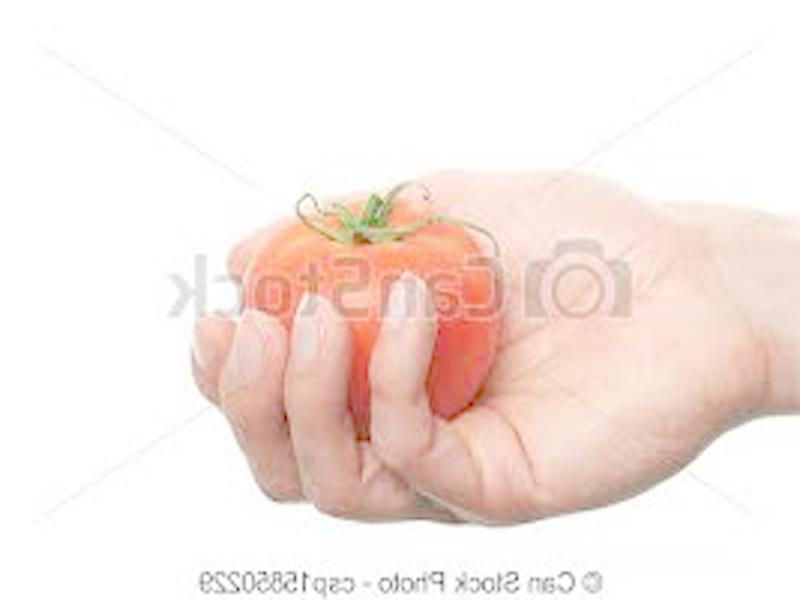Tomato: (242, 200, 493, 432)
